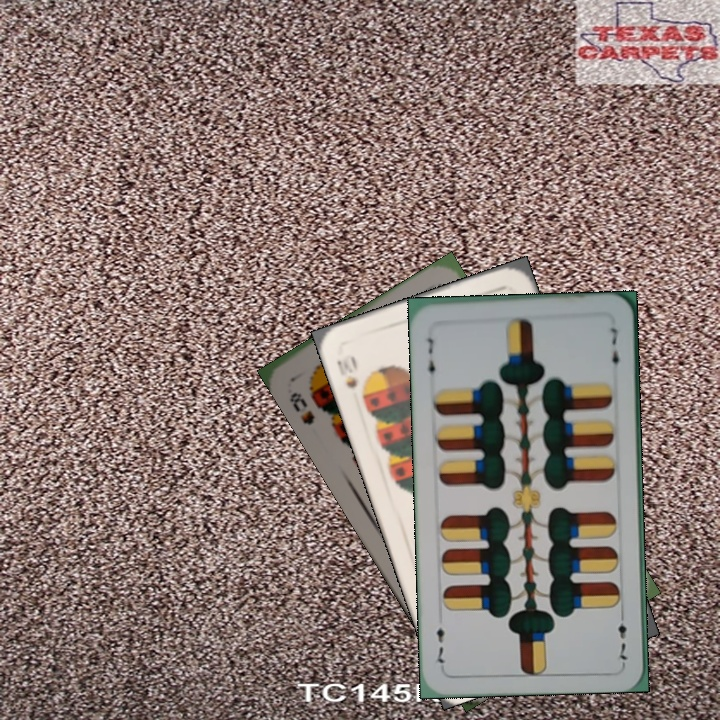E7: (614, 607, 629, 666), (423, 333, 438, 381)
S10: (332, 352, 360, 391)
S8: (285, 388, 318, 428)
